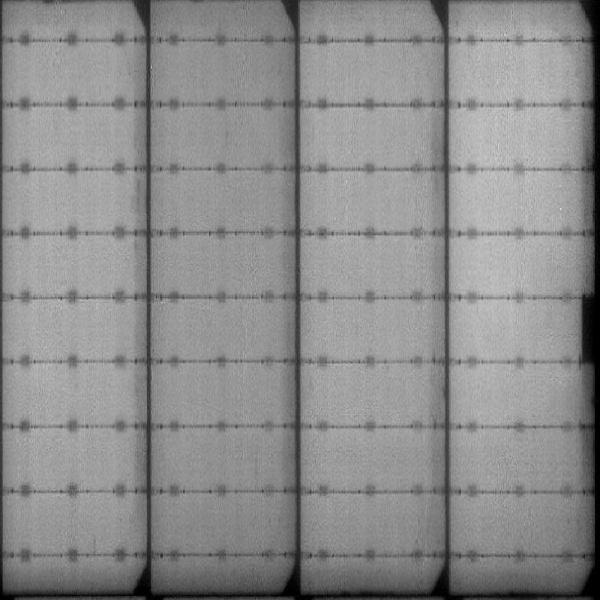black_border: (578, 289, 599, 370)
